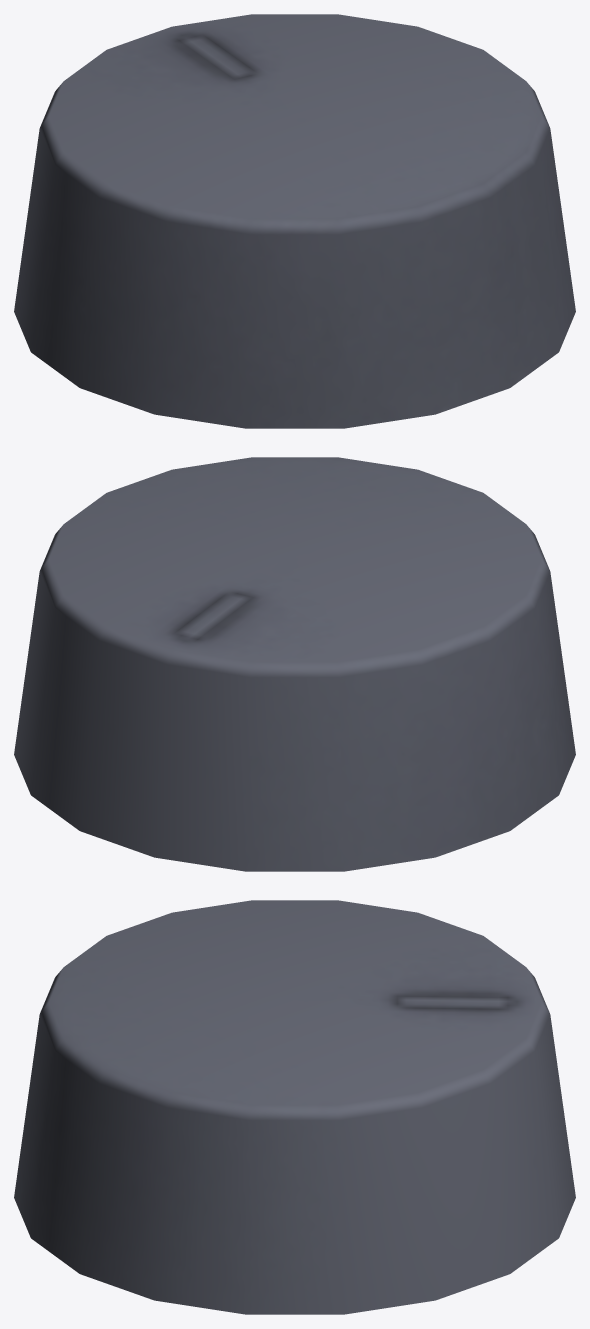
File: Dial 1.fbx
3 renders of one model, top to bottom at view 1: azimuth 30°, elevation 25°; view 2: azimuth 150°, elevation 25°; view 3: azimuth 270°, elevation 25°, orthographic.
Visible parts, largest first — view 1: Dial_1; view 2: Dial_1; view 3: Dial_1.
Boxes of the visible parts, box(x1,y1,x2,y2) form: Dial_1: box(14, 14, 575, 428); Dial_1: box(14, 457, 575, 871); Dial_1: box(14, 900, 575, 1314).
Size of the model in its own units: 2.41 by 0.9548 by 2.45.
